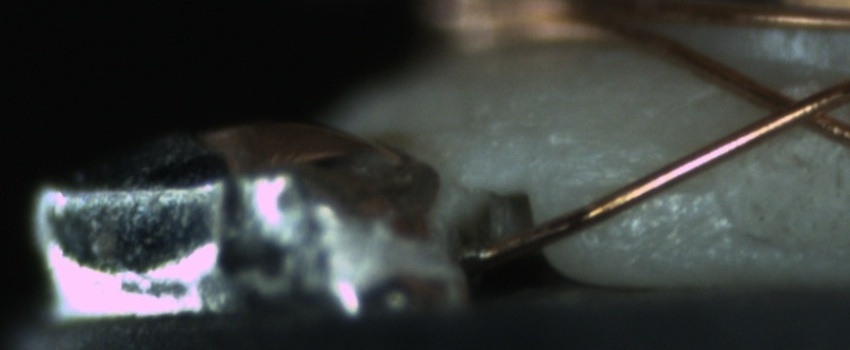CL: (743, 78, 847, 141)
